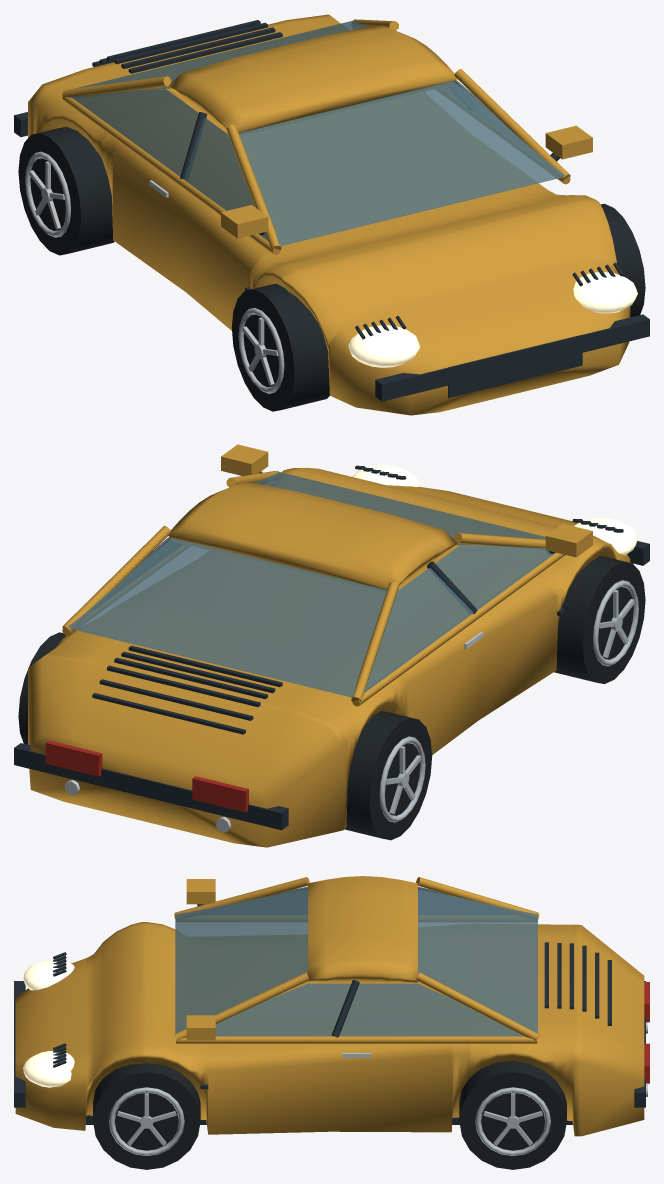
The model's file is miura.glb.
3 renders of one model, top to bottom at view 1: azimuth 30°, elevation 25°; view 2: azimuth 150°, elevation 25°; view 3: azimuth 270°, elevation 25°, orthographic. The views are drawn at different scales.
Visible parts, largest first — view 1: exterior-paint, windows, black-trim, tire-front-left, tire-rear-left, headlights, tire-front-right, rim-front-left, rim-rear-left; view 2: exterior-paint, windows, black-trim, tire-front-left, tire-rear-left, taillights, headlights, rim-rear-left, rim-front-left, tire-rear-right; view 3: exterior-paint, windows, tire-rear-right, tire-front-right, black-trim, headlights, rim-rear-right, rim-front-right, taillights.
Part boxes in pixels (x1,y1,x2,y2): exterior-paint: (28,14,630,415); windows: (70,20,564,245); black-trim: (14,20,649,401); tire-front-left: (231,283,329,411); tire-rear-left: (18,126,114,255); headlights: (348,272,637,367); tire-front-right: (600,203,645,317); rim-front-left: (238,307,284,393); rim-rear-left: (25,151,70,237); exterior-paint: (28,444,630,847); windows: (68,472,555,697); black-trim: (14,465,649,830); tire-front-left: (554,556,645,683); tire-rear-left: (344,711,432,840); taillights: (45,740,248,812); headlights: (352,464,637,555); rim-rear-left: (379,736,425,822); rim-front-left: (593,580,638,666); tire-rear-right: (18,632,65,744); exterior-paint: (15,876,644,1136); windows: (175,886,537,1036); tire-rear-right: (459,1061,566,1169); tire-front-right: (93,1063,200,1169); black-trim: (14,904,645,1124); headlights: (23,960,74,1087); rim-rear-right: (475,1087,550,1155); rim-front-right: (109,1087,184,1155); taillights: (644,982,649,1083).
Bounding box in the file's own units: 1.99 × 1.11 × 3.54.
